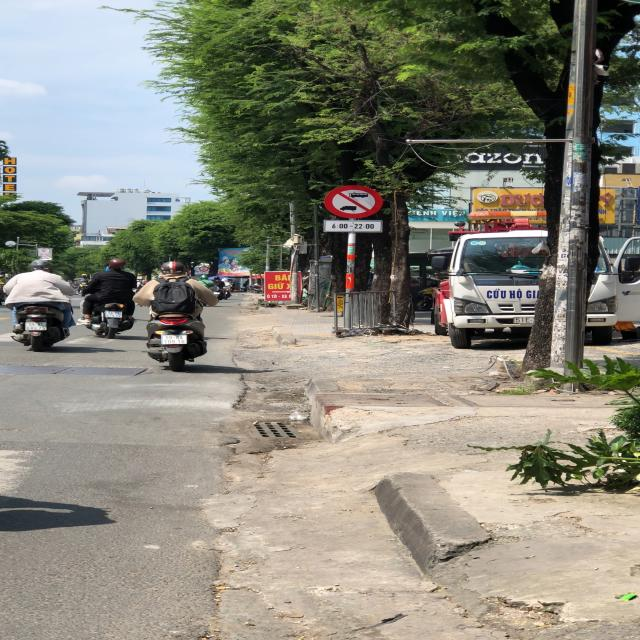Bien bao cam xe oto khach va xe oto tai: (317, 183, 391, 221)
